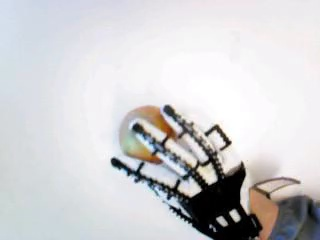apple: (117, 103, 175, 165)
hand: (111, 108, 264, 238), (117, 103, 175, 165)
